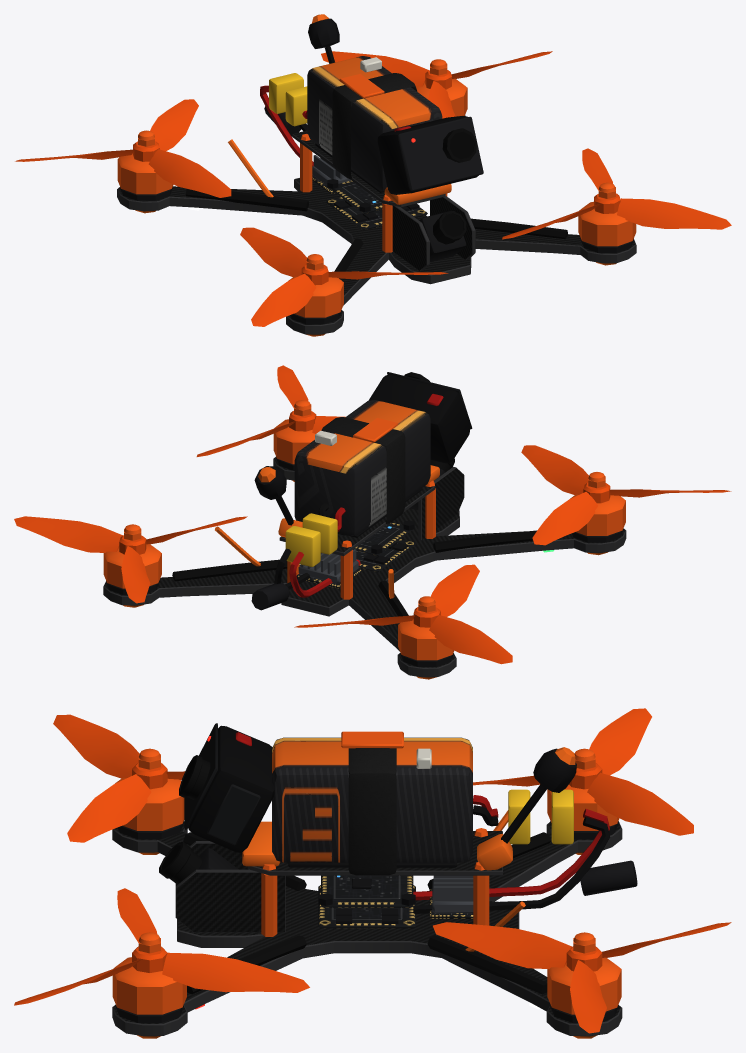
File: raptor_race_a_lod1.glb
The picture shows the model from 3 angles, top to bottom: view 1: azimuth 30°, elevation 25°; view 2: azimuth 150°, elevation 25°; view 3: azimuth 270°, elevation 25°; orthographic projection. The views are drawn at different scales.
Visible parts, largest first — view 1: body, battery, action_cam, prop_fr, prop_rr, prop_fl, prop_rl, camera_fpv, camera_lens; view 2: body, battery, prop_fr, prop_rr, prop_rl, action_cam, prop_fl; view 3: body, battery, action_cam, prop_rl, prop_rr, prop_fr, prop_fl, camera_lens.
Boxes of the visible parts, x1,y1,x2,y2 form: body: [117, 14, 636, 336]; battery: [285, 56, 442, 190]; action_cam: [377, 116, 483, 194]; prop_fr: [240, 227, 448, 326]; prop_rr: [15, 99, 231, 197]; prop_fl: [502, 148, 731, 239]; prop_rl: [321, 51, 552, 118]; camera_fpv: [419, 210, 465, 261]; camera_lens: [433, 211, 466, 244]; body: [103, 417, 626, 679]; battery: [294, 400, 430, 554]; prop_fr: [521, 445, 731, 545]; prop_rr: [294, 564, 512, 664]; prop_rl: [14, 516, 247, 603]; action_cam: [368, 372, 472, 463]; prop_fl: [196, 365, 345, 456]; body: [112, 731, 637, 1038]; battery: [272, 737, 530, 862]; action_cam: [179, 723, 274, 852]; prop_rl: [433, 922, 731, 1033]; prop_rr: [473, 708, 693, 835]; prop_fr: [53, 714, 185, 842]; prop_fl: [14, 888, 309, 1005]; camera_lens: [159, 842, 201, 884].
Size of the model in its own units: 0.2831 by 0.0833 by 0.2643.
Materials: 31 (4 with a texture image).
